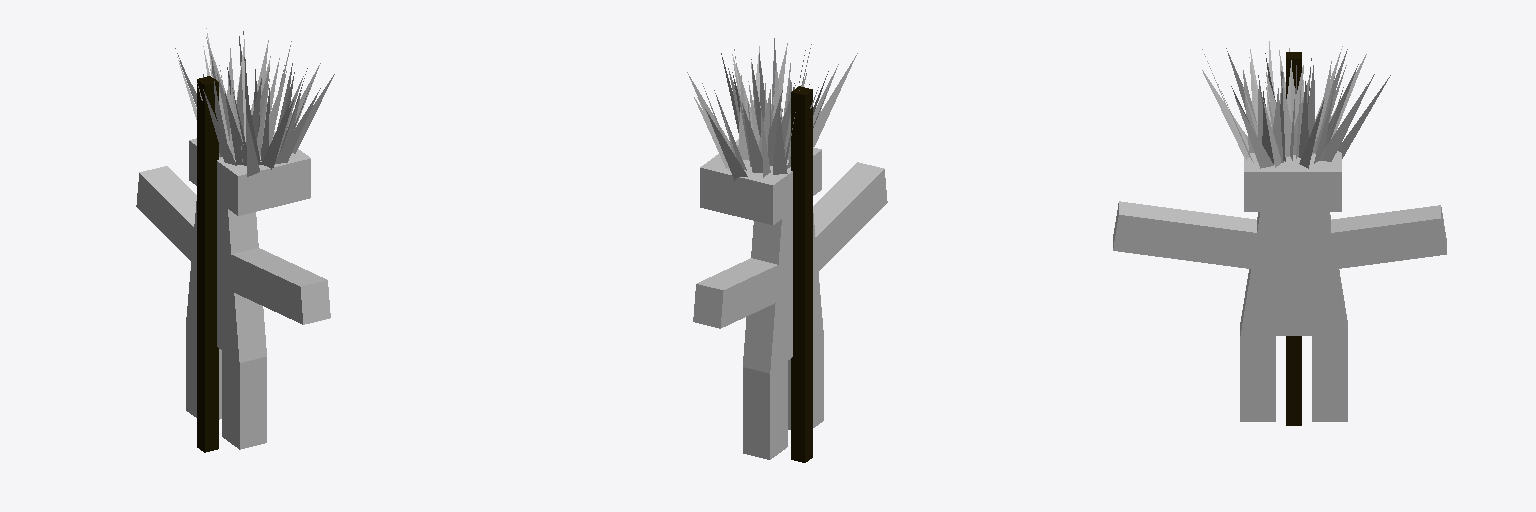
File: scarecrow.obj
3 renders of one model, left to right at view 1: azimuth 30°, elevation 25°; view 2: azimuth 150°, elevation 25°; view 3: azimuth 270°, elevation 25°, orthographic.
Visible parts, largest first — view 1: Cube.001; view 2: Cube.001; view 3: Cube.001.
Boxes of the visible parts, x1,y1,x2,y2 form: Cube.001: [136, 28, 334, 452]; Cube.001: [687, 38, 887, 462]; Cube.001: [1113, 41, 1446, 425].
Size of the model in its own units: 0.8433 by 2.56 by 2.07.